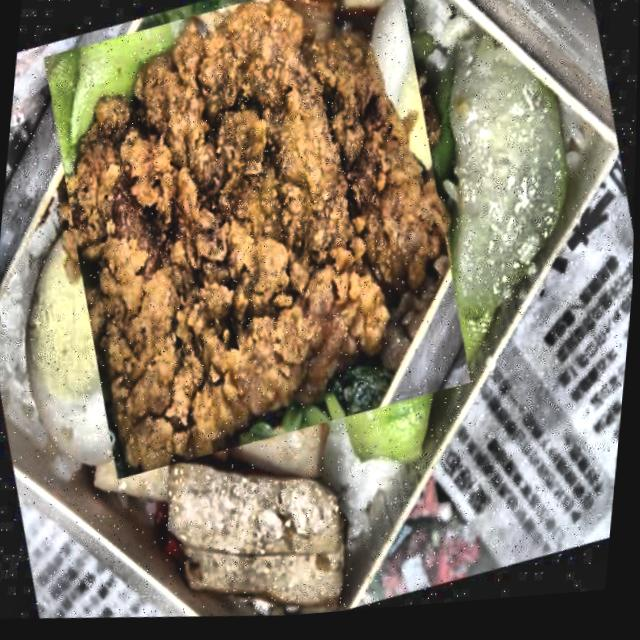Food: (6, 0, 509, 512)
